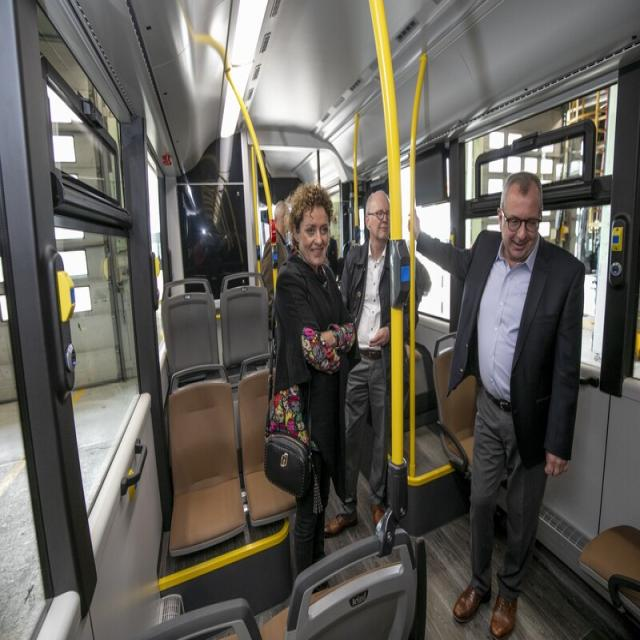empty-seat-frontal: (155, 363, 247, 560)
